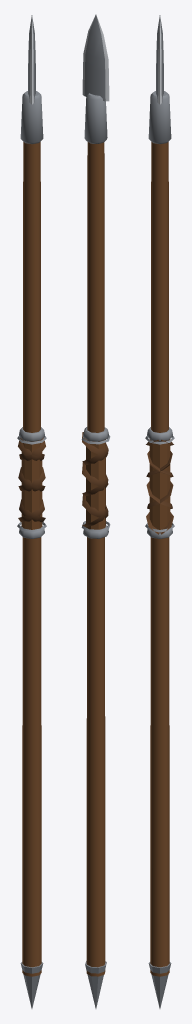
Rendered from iron_spear.glb.
3 views of the same model, side by side, from view 1: azimuth 90°, elevation 25°; view 2: azimuth 150°, elevation 25°; view 3: azimuth 270°, elevation 25° (orthographic).
Parts seen in each view (by area): view 1: iron_spear; view 2: iron_spear; view 3: iron_spear.
Part boxes in pixels (box(x1,y1,x2,y2)): iron_spear: box(17, 15, 46, 1008); iron_spear: box(81, 14, 110, 1008); iron_spear: box(145, 15, 174, 1008).
Size of the model in its own units: 0.06 by 2.13 by 0.0576.
